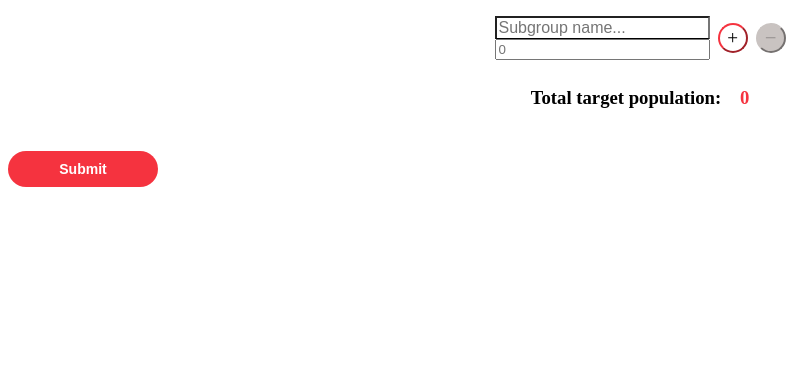
Test subgroup input form › check for summing up group size
Click the button with test id "addgroup-btn". click: [733, 38]
box: [718, 23, 748, 53]
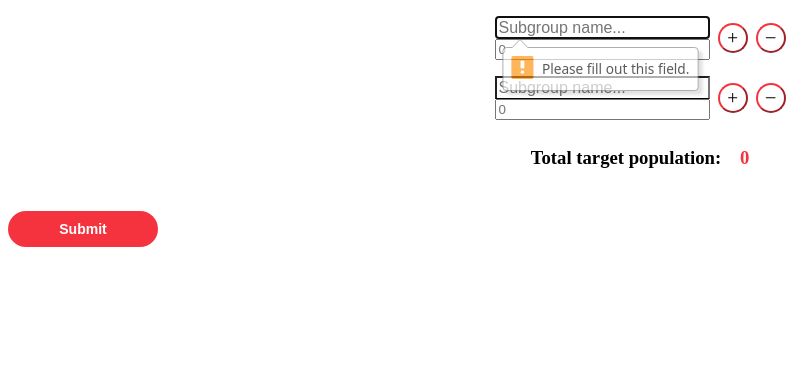
Click the 1st button with test id "addgroup-btn". click: [733, 38]
box: [718, 23, 748, 53]
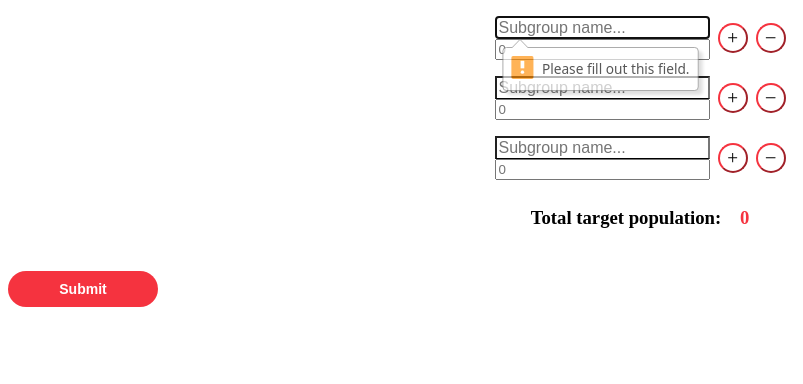
Click the 1st button with test id "addgroup-btn". click: [733, 38]
box: [718, 23, 748, 53]
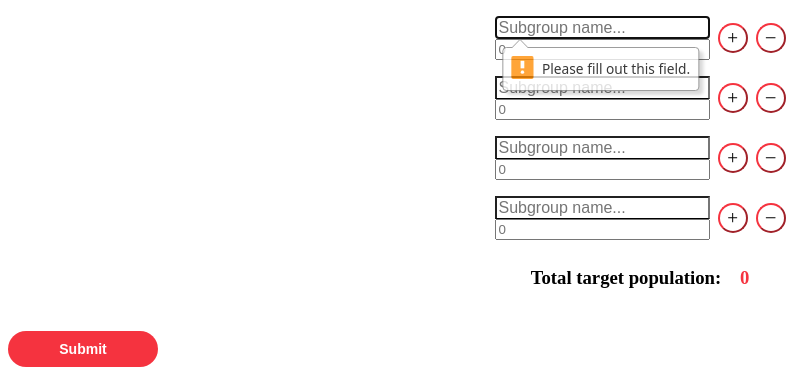
Type "1" into the 1st number field with test id "subgroup-size". click: [603, 50]
box: [495, 39, 710, 60]
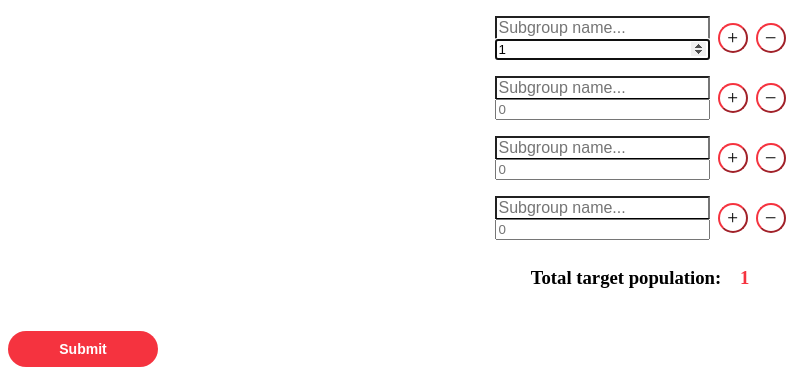
Type "2" into the 2nd number field with test id "subgroup-size". click: [603, 110]
box: [495, 99, 710, 120]
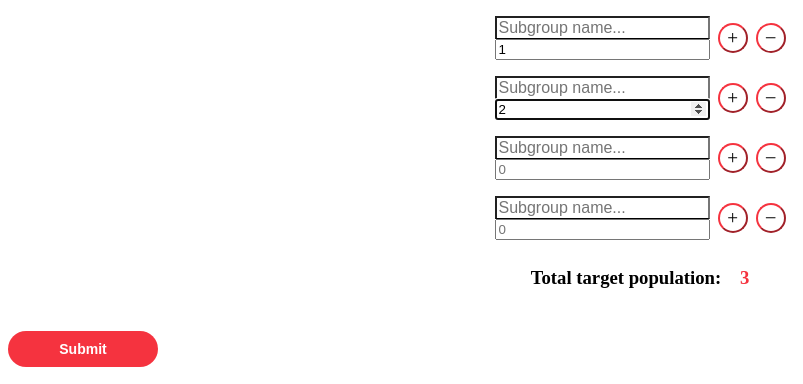
Type "3" into the 3rd number field with test id "subgroup-size". click: [603, 170]
box: [495, 159, 710, 180]
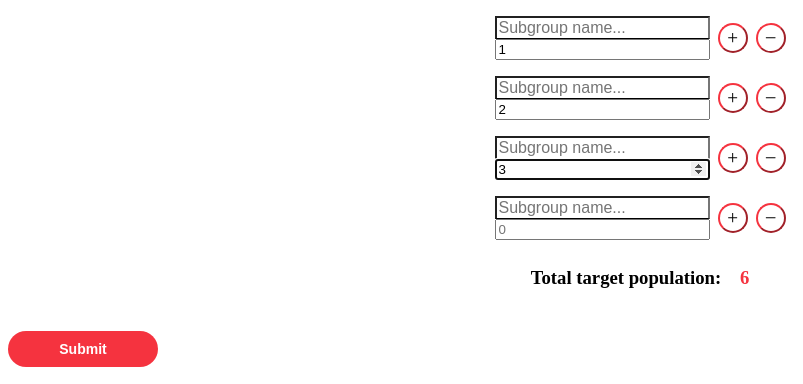
Now the text "6" is shown, box [740, 267, 749, 289]
